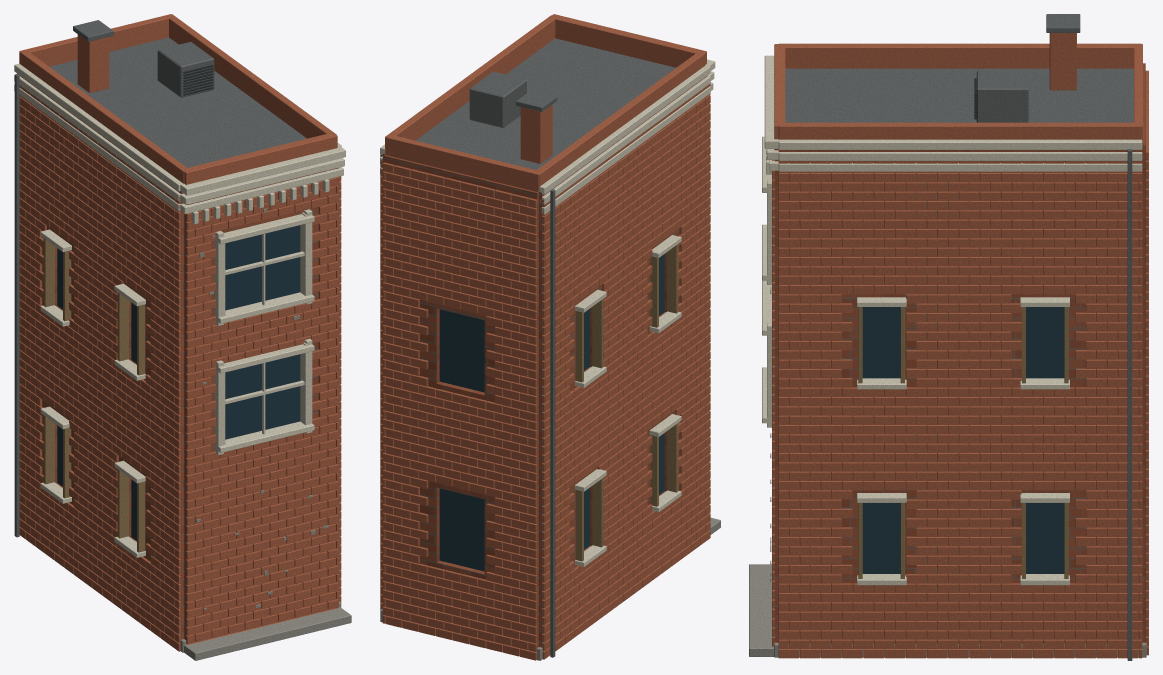
The model's file is RUNDWN13_lod0.glb.
3 renders of one model, left to right at view 1: azimuth 30°, elevation 25°; view 2: azimuth 150°, elevation 25°; view 3: azimuth 270°, elevation 25°, orthographic. The views are drawn at different scales.
Parts seen in each view (by area): view 1: RUNDWN13_LOD0; view 2: RUNDWN13_LOD0; view 3: RUNDWN13_LOD0.
Part boxes in pixels (x1,y1,x2,y2): RUNDWN13_LOD0: (14,14,351,660); RUNDWN13_LOD0: (380,14,720,660); RUNDWN13_LOD0: (749,14,1148,660).
Bounding box in the file's own units: 3.71 × 10.45 × 6.6.
Materials: 11 (9 with a texture image).
